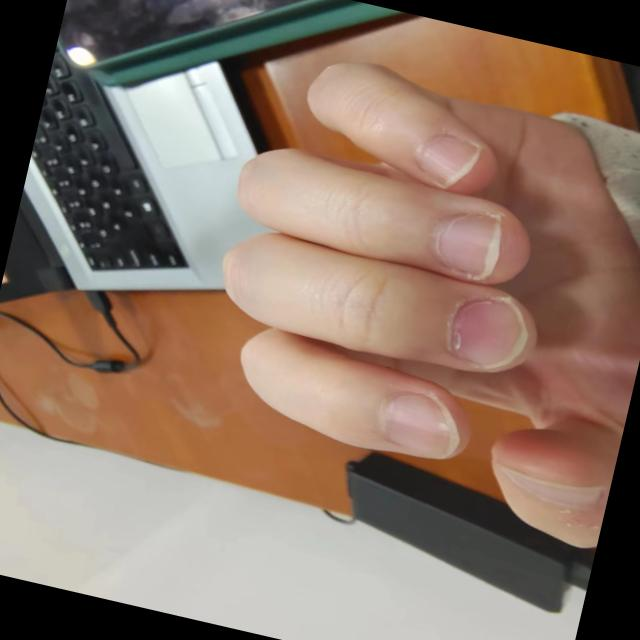Nail: (443, 295, 526, 366), (380, 392, 458, 457), (491, 458, 600, 503), (432, 212, 497, 276), (411, 131, 480, 183)
